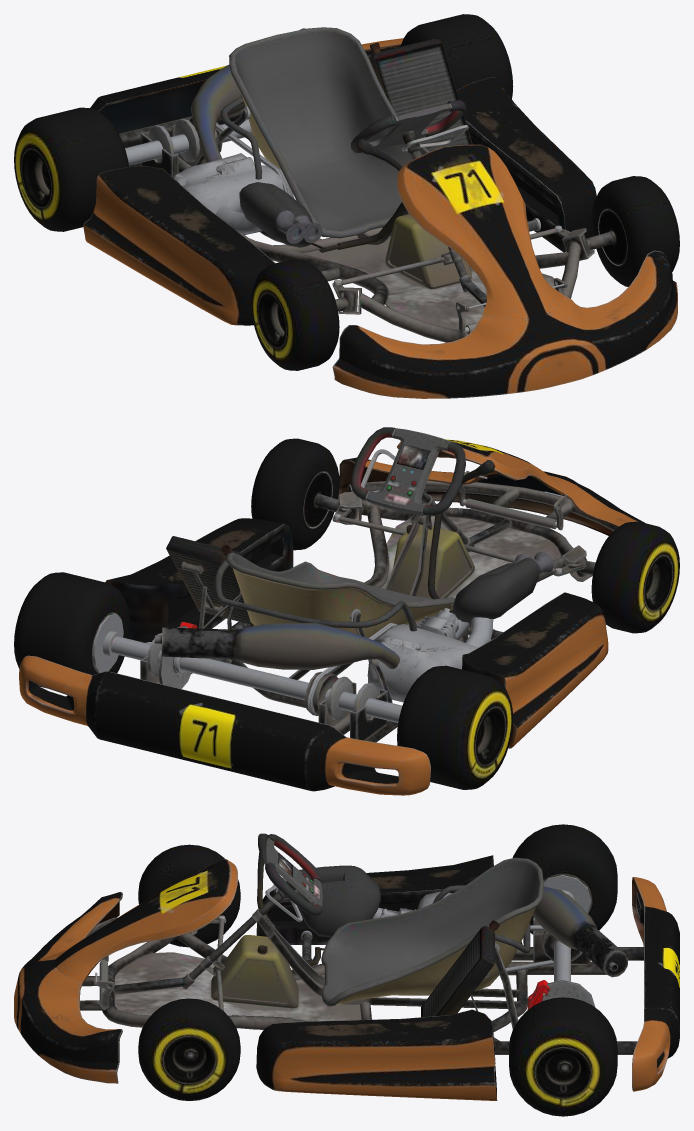
File: kart.glb
The picture shows the model from 3 angles, top to bottom: view 1: azimuth 30°, elevation 25°; view 2: azimuth 150°, elevation 25°; view 3: azimuth 270°, elevation 25°; orthographic projection. The views are drawn at different scales.
Parts seen in each view (by area): view 1: defaultMaterial (×3); view 2: defaultMaterial (×3); view 3: defaultMaterial (×3).
Part boxes in pixels (x1,y1,x2,y2): defaultMaterial (×3): (14, 14, 679, 398); defaultMaterial (×3): (14, 427, 679, 795); defaultMaterial (×3): (14, 824, 679, 1116).
Size of the model in its own units: 198 by 76.52 by 272.
Materials: 3 (3 with a texture image).
